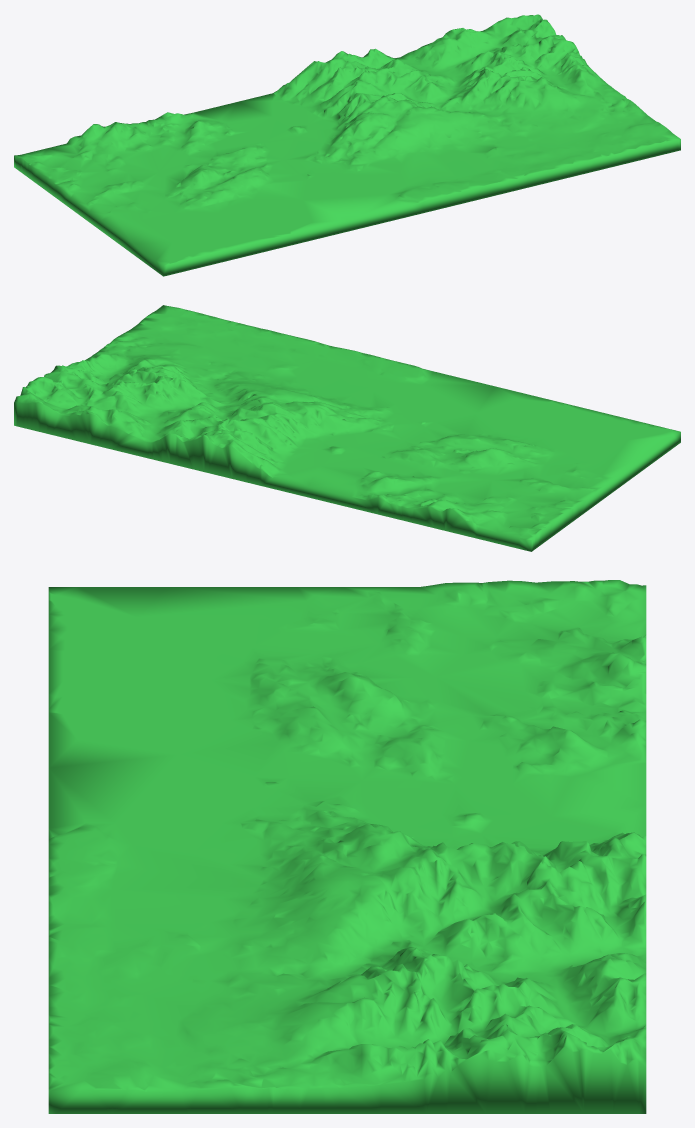
The model's file is West_Van_Collada_Green.dae.
3 views of the same model, one above another, from view 1: azimuth 30°, elevation 25°; view 2: azimuth 150°, elevation 25°; view 3: azimuth 270°, elevation 25° (orthographic). The views are drawn at different scales.
Parts seen in each view (by area): view 1: model; view 2: model; view 3: model.
Boxes of the visible parts, box(x1,y1,x2,y2) form: model: box(14, 14, 680, 276); model: box(14, 305, 680, 551); model: box(48, 580, 646, 1113).
Size of the model in its own units: 0.9996 by 0.5 by 0.0691.
